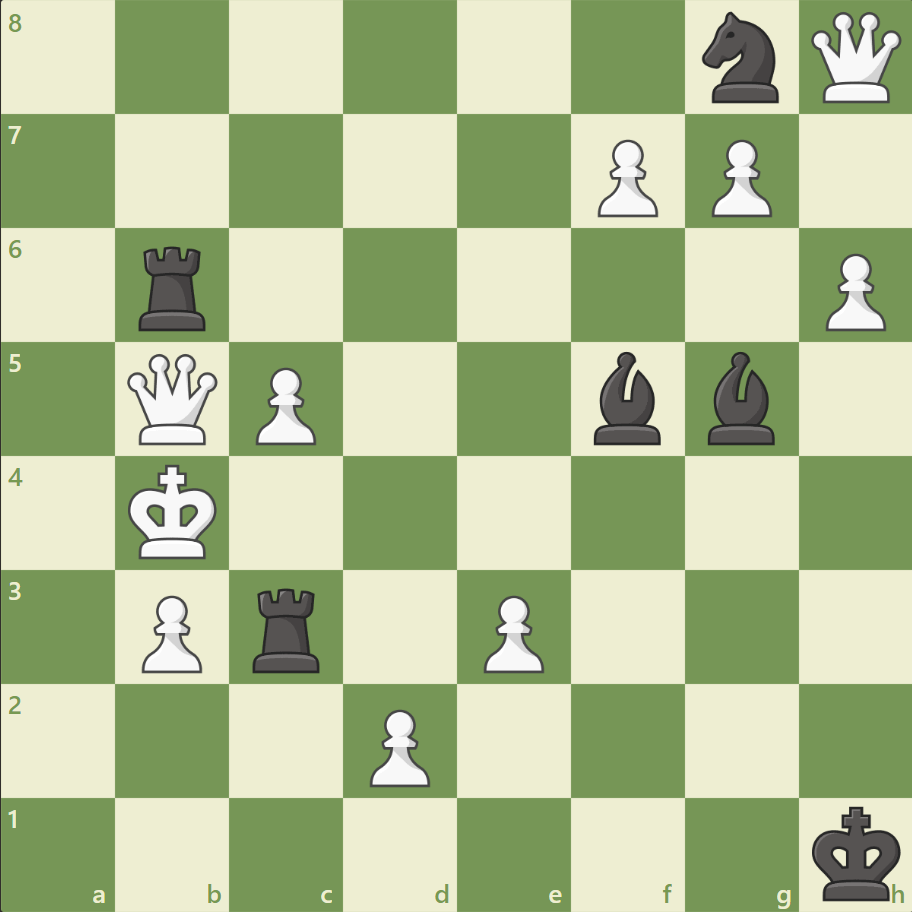K: (124, 458, 224, 566)
P: (701, 132, 776, 223), (247, 359, 322, 450), (133, 586, 208, 677), (474, 586, 549, 677), (588, 132, 662, 223), (815, 246, 889, 337), (361, 700, 435, 791)
Q: (124, 349, 223, 449), (805, 9, 904, 108)
b: (585, 347, 669, 449), (698, 347, 782, 449)
k: (806, 798, 906, 906)
n: (692, 7, 789, 110)
r: (246, 579, 329, 676), (133, 239, 215, 336)
